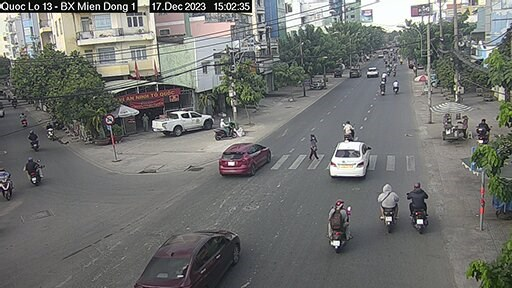car: (149, 220, 251, 283), (222, 132, 275, 179), (328, 139, 373, 191), (137, 111, 221, 132)
motorbike: (378, 178, 405, 233), (322, 198, 344, 261), (412, 182, 429, 230), (339, 119, 352, 139)
